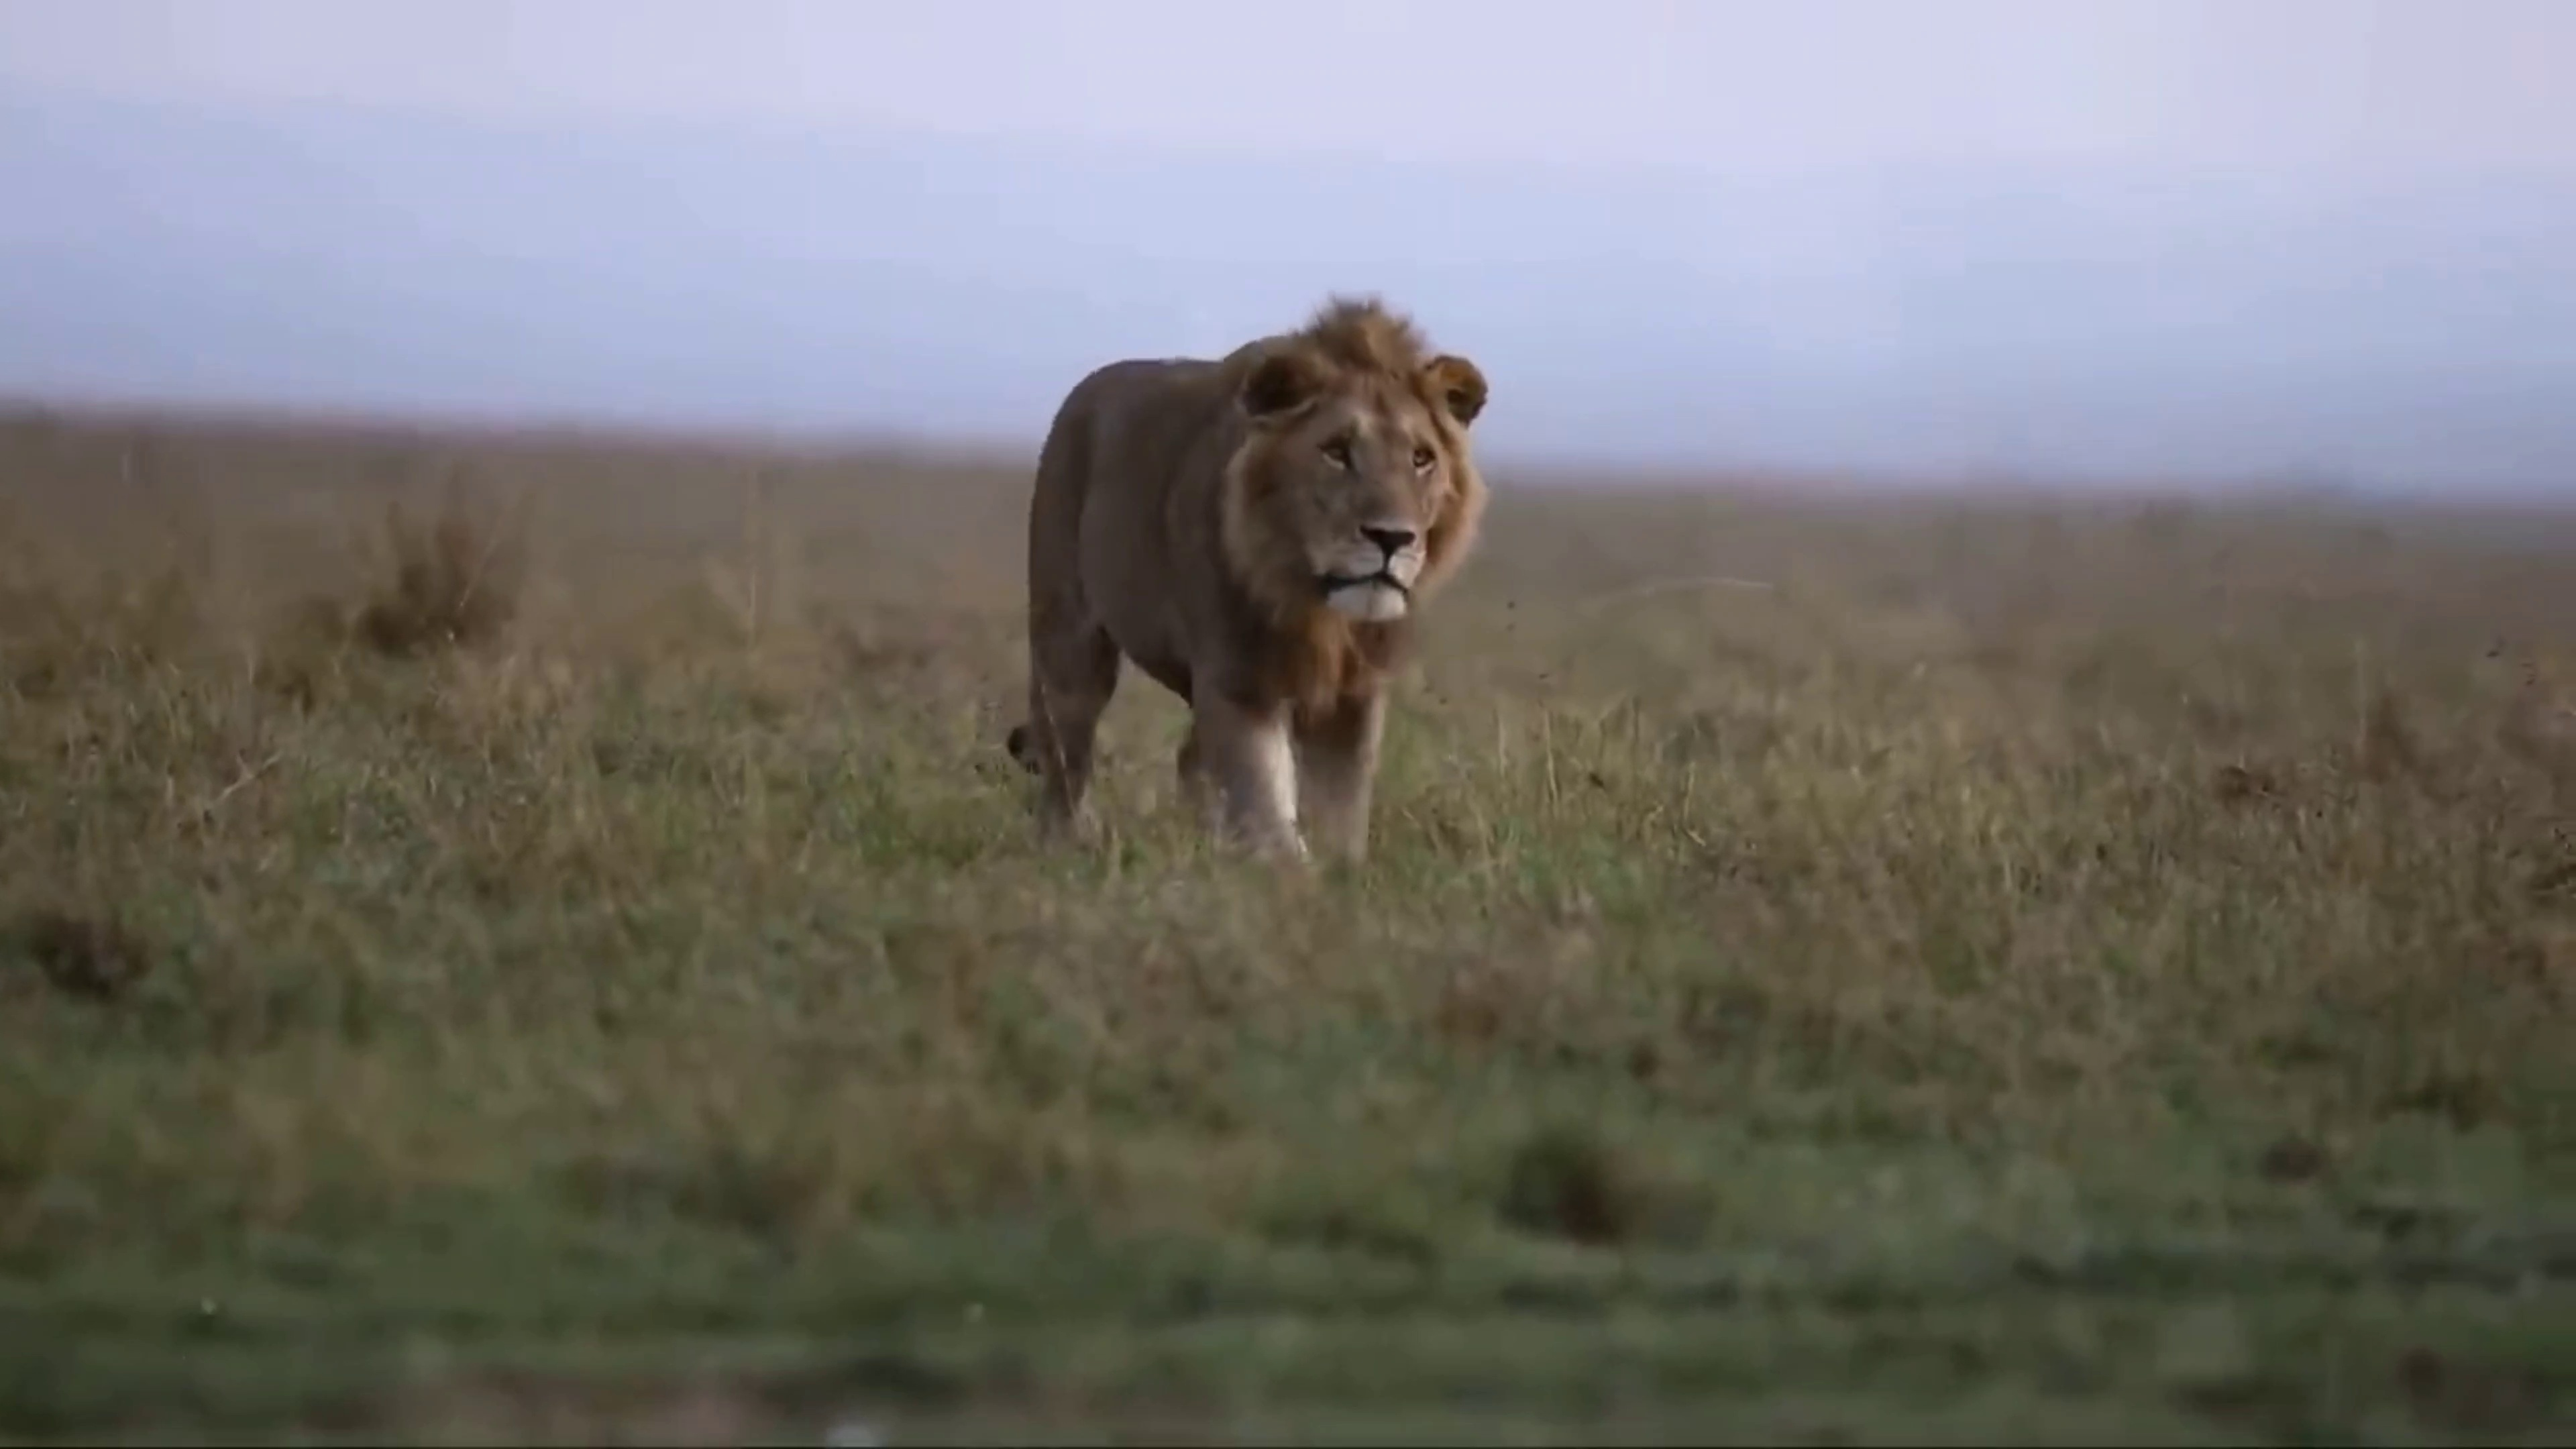Lion: (1008, 288, 1490, 874)
